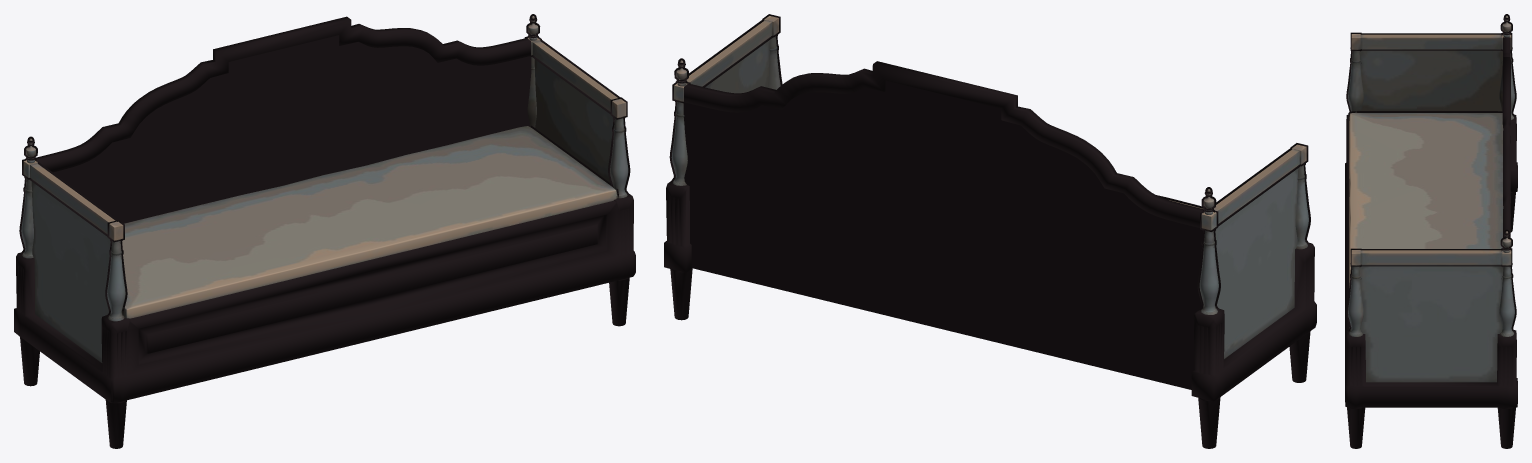
The model's file is SM_Int_WoodSofa.fbx.
3 renders of one model, left to right at view 1: azimuth 30°, elevation 25°; view 2: azimuth 150°, elevation 25°; view 3: azimuth 270°, elevation 25°, orthographic. The views are drawn at different scales.
Parts seen in each view (by area): view 1: SM_Int_WoodSofa; view 2: SM_Int_WoodSofa; view 3: SM_Int_WoodSofa.
Part boxes in pixels (<box>): SM_Int_WoodSofa: <box>14,14,635,448</box>; SM_Int_WoodSofa: <box>664,14,1316,448</box>; SM_Int_WoodSofa: <box>1345,14,1517,448</box>.
Size of what is drawn, in the model's own units: 2.46 by 1.29 by 0.8001.
